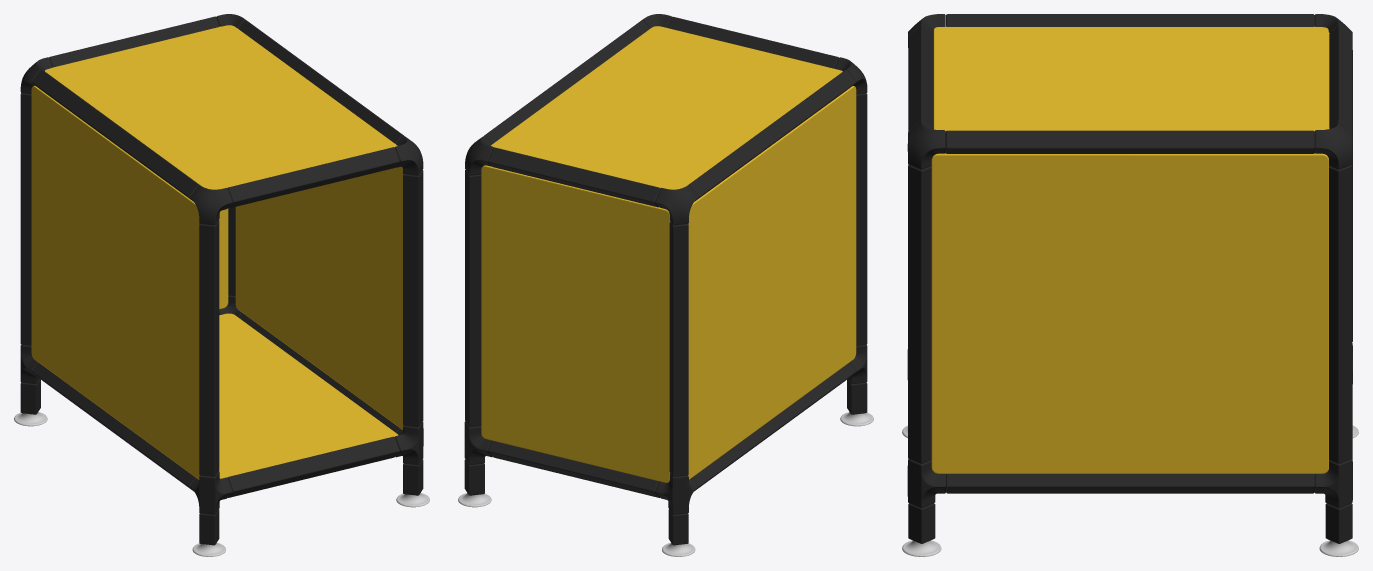
3 views of the same model, side by side, from view 1: azimuth 30°, elevation 25°; view 2: azimuth 150°, elevation 25°; view 3: azimuth 270°, elevation 25° (orthographic). The views are drawn at different scales.
Visible parts, largest first — view 1: 229x374x329; view 2: 229x374x329; view 3: 229x374x329.
Part boxes in pixels (x1,y1,x2,y2): 229x374x329: (14,14,429,556); 229x374x329: (458,14,873,556); 229x374x329: (902,14,1358,556).
Bounding box in the file's own units: 0.3189 × 0.4683 × 0.4632.
